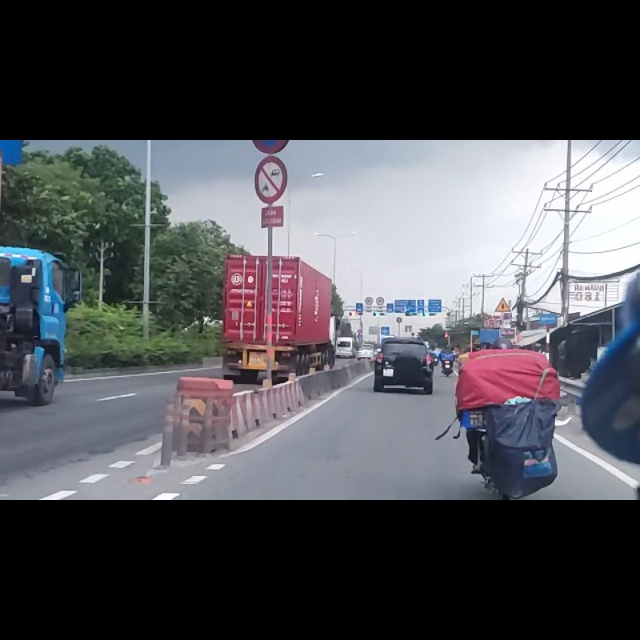bien_hieu_lenh: (253, 28, 289, 111), (494, 280, 511, 306)
